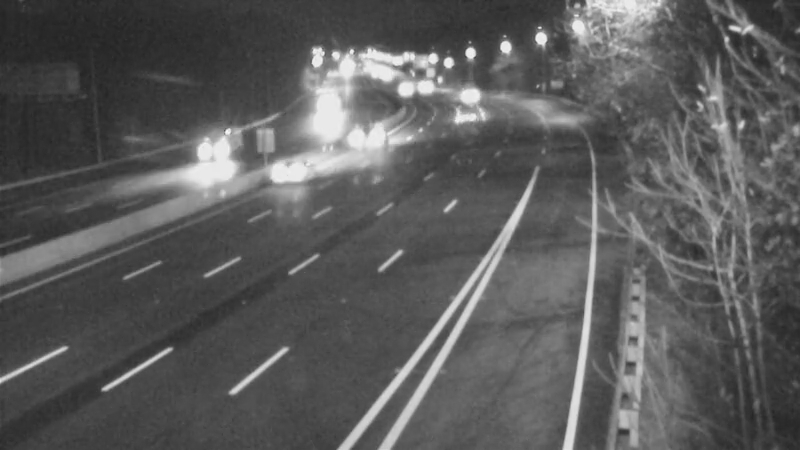vehicle: (253, 131, 333, 211), (377, 65, 427, 115), (399, 61, 449, 111), (448, 68, 498, 118), (441, 92, 491, 142), (348, 116, 398, 166), (188, 124, 238, 174), (299, 80, 349, 130)
